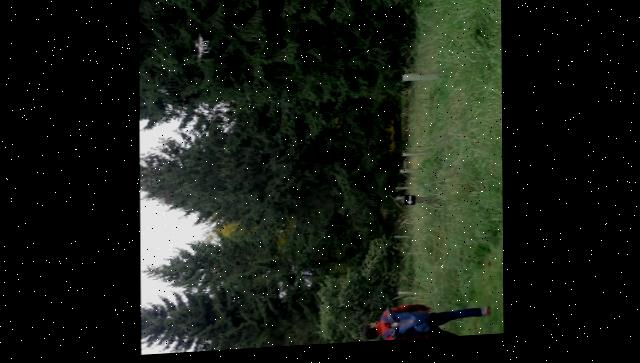drone: (193, 35, 211, 61)
